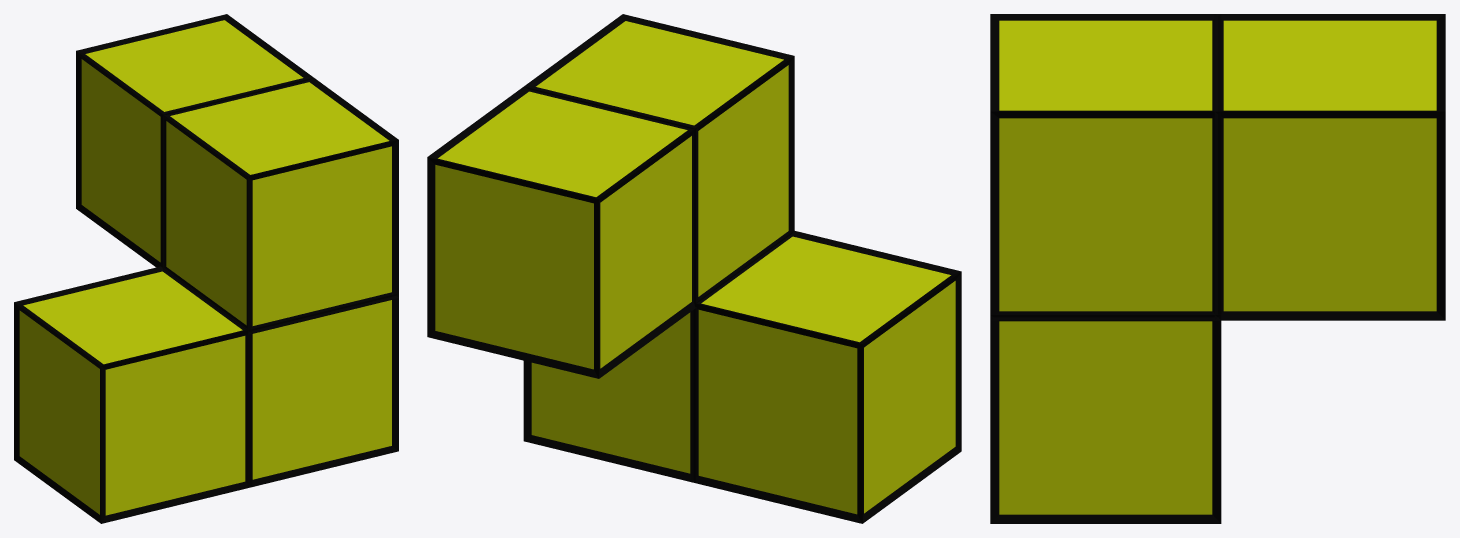
3 renders of one model, left to right at view 1: azimuth 30°, elevation 25°; view 2: azimuth 150°, elevation 25°; view 3: azimuth 270°, elevation 25°, orthographic. The views are drawn at different scales.
Parts seen in each view (by area): view 1: a4:Mesh; view 2: a4:Mesh; view 3: a4:Mesh.
Boxes of the visible parts, <box> form: a4:Mesh: <box>14,14,398,523</box>; a4:Mesh: <box>427,14,961,523</box>; a4:Mesh: <box>990,14,1445,523</box>.
Bounding box in the file's own units: 4.06 × 4.06 × 4.06.
